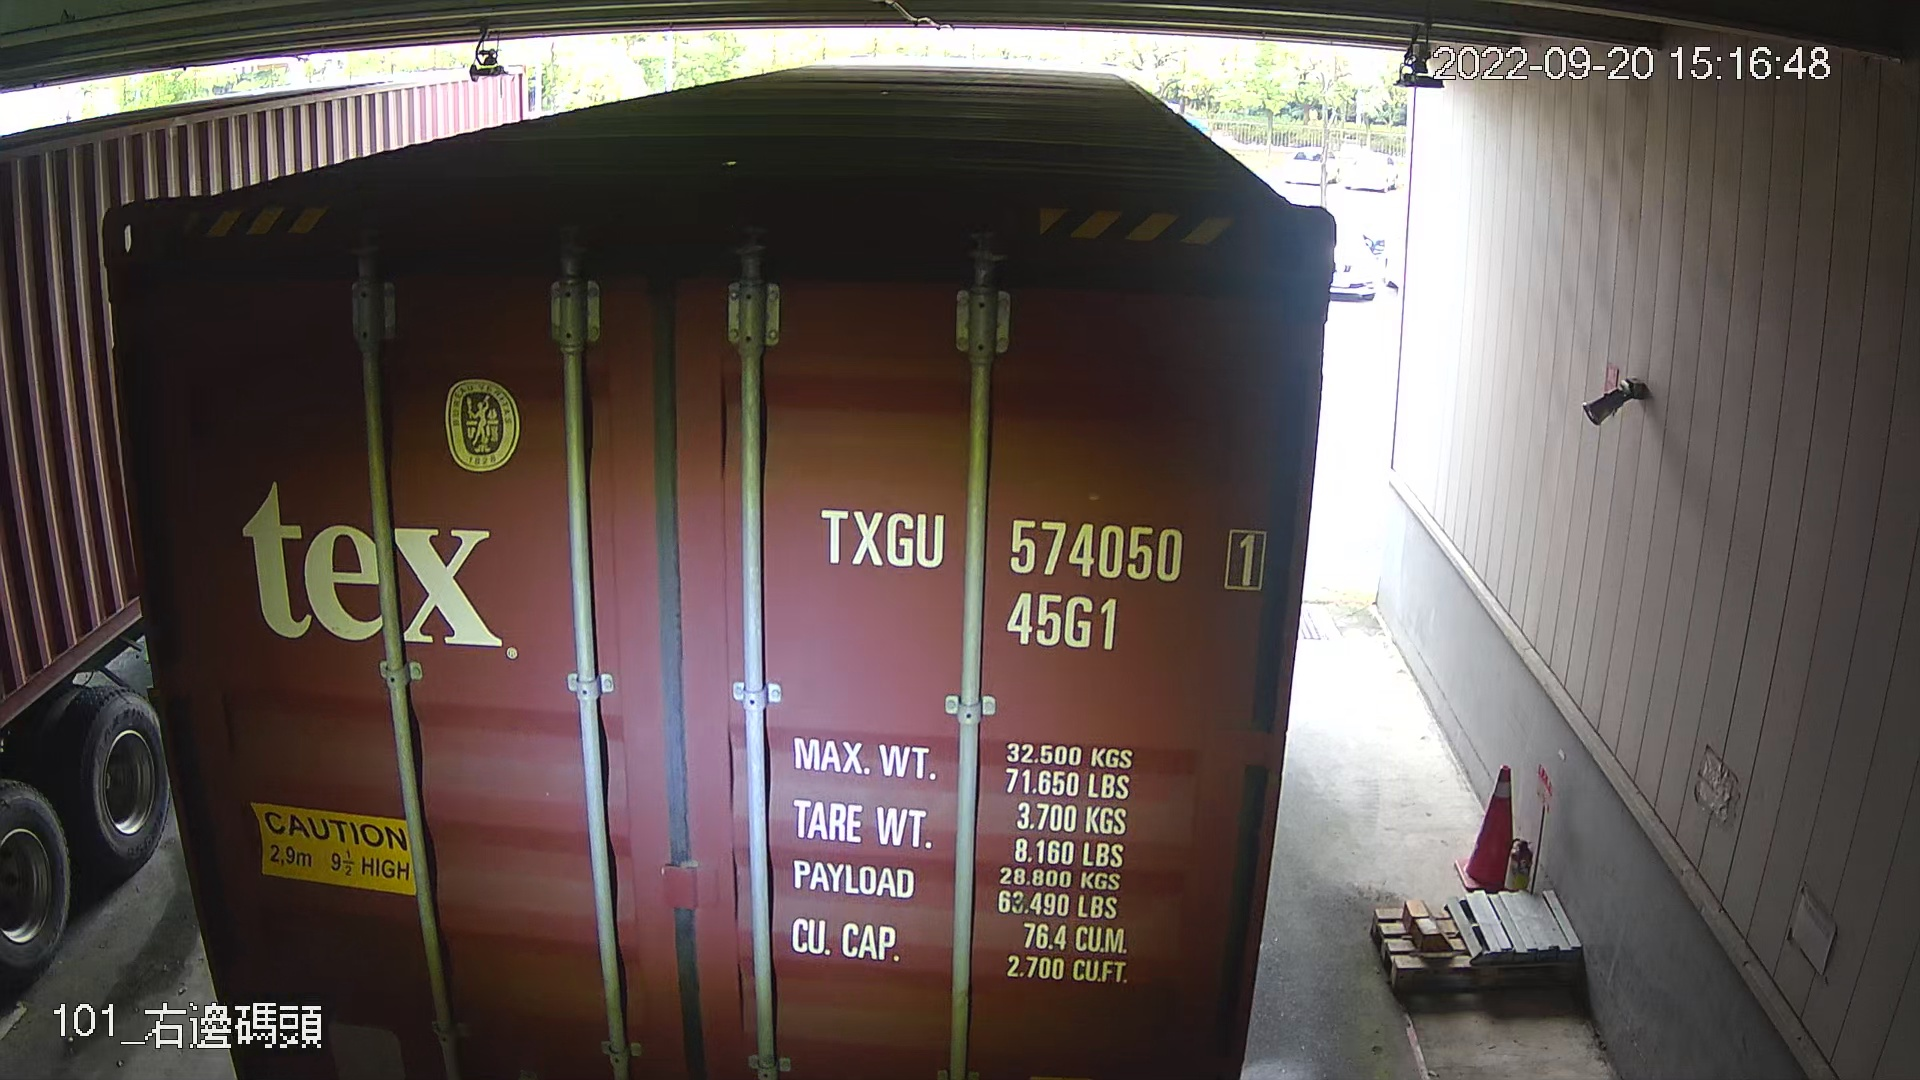container: (796, 492, 1275, 666)
